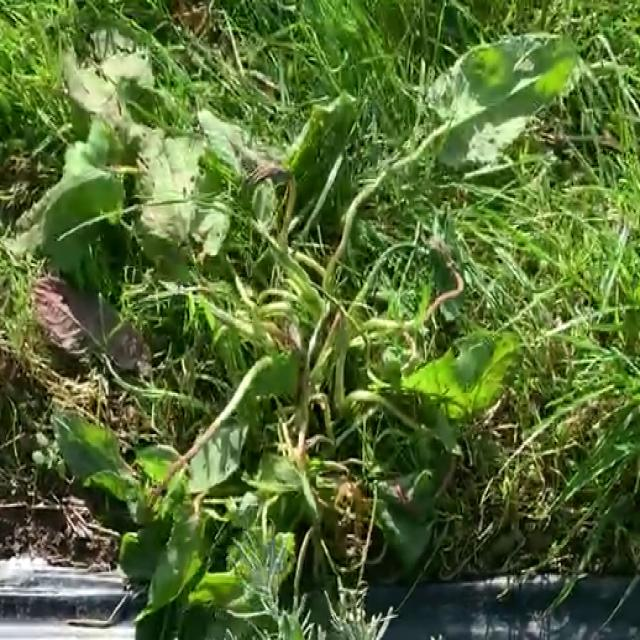organic waste: (4, 0, 593, 640)
